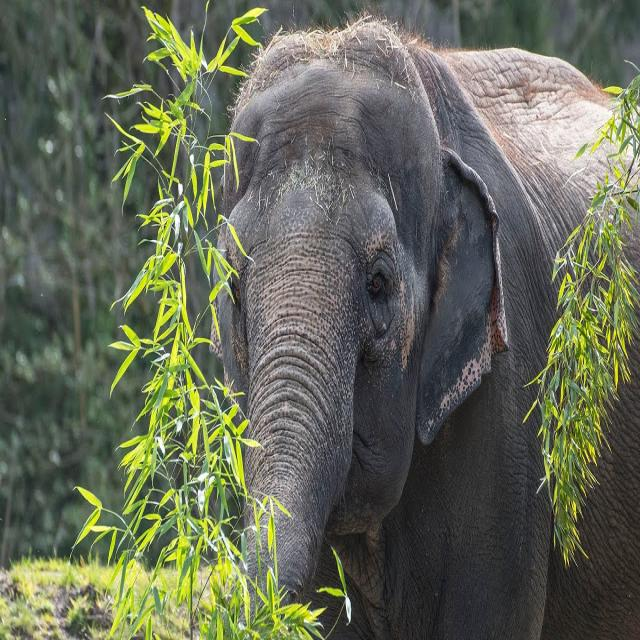Elephant: (185, 12, 640, 638)
